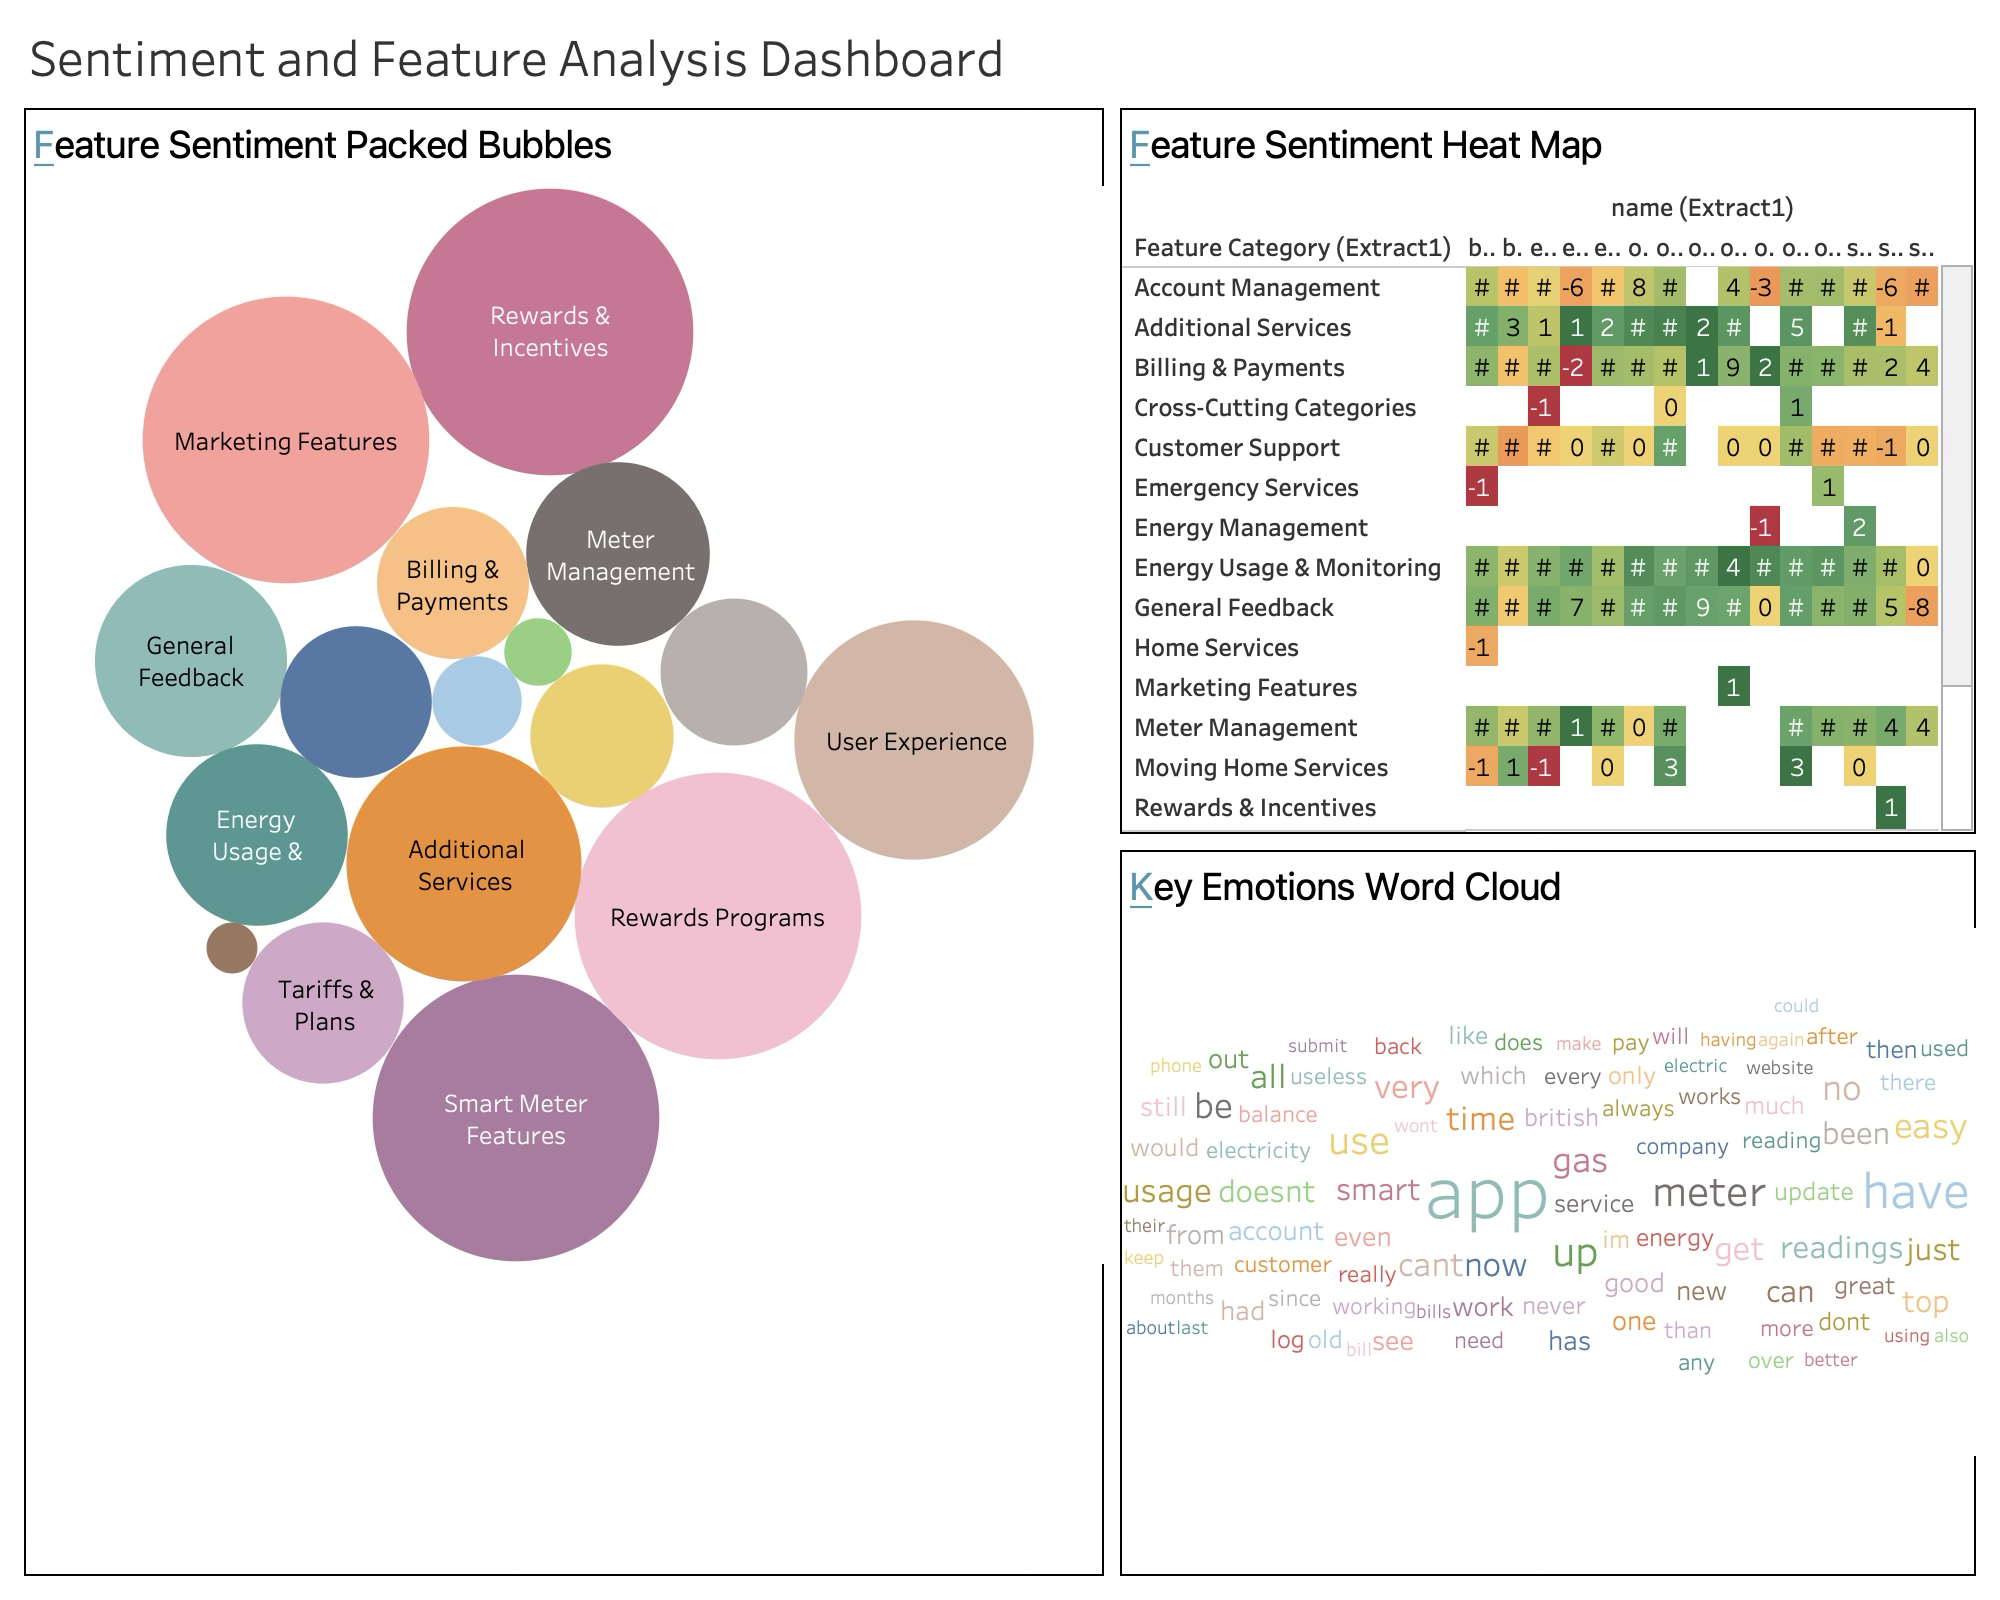

This screenshot's page, from the dashboard's own definition file:
{"tool":"tableau","page":{"name":"Sentiment and Feature Analysis Dashboard","canvas":[1000,800],"ordinal":4},"visuals":[{"type":"title","box":[8,8,984,42]},{"type":"worksheet","title":"SFA 1","mark":"Circle","box":[8,50,548,742]},{"type":"worksheet","title":"SFA 2","mark":"Text","box":[556,50,436,742]}]}

Visuals, with their boxes in screenshot pixels (x1, y1, x2, y2), scaled from the page's 1000x800 canvas onto the 2000x1600 screenshot:
title: box(16, 16, 1984, 100)
"SFA 1" worksheet (Circle marks): box(16, 100, 1112, 1584)
"SFA 2" worksheet (Text marks): box(1112, 100, 1984, 1584)
